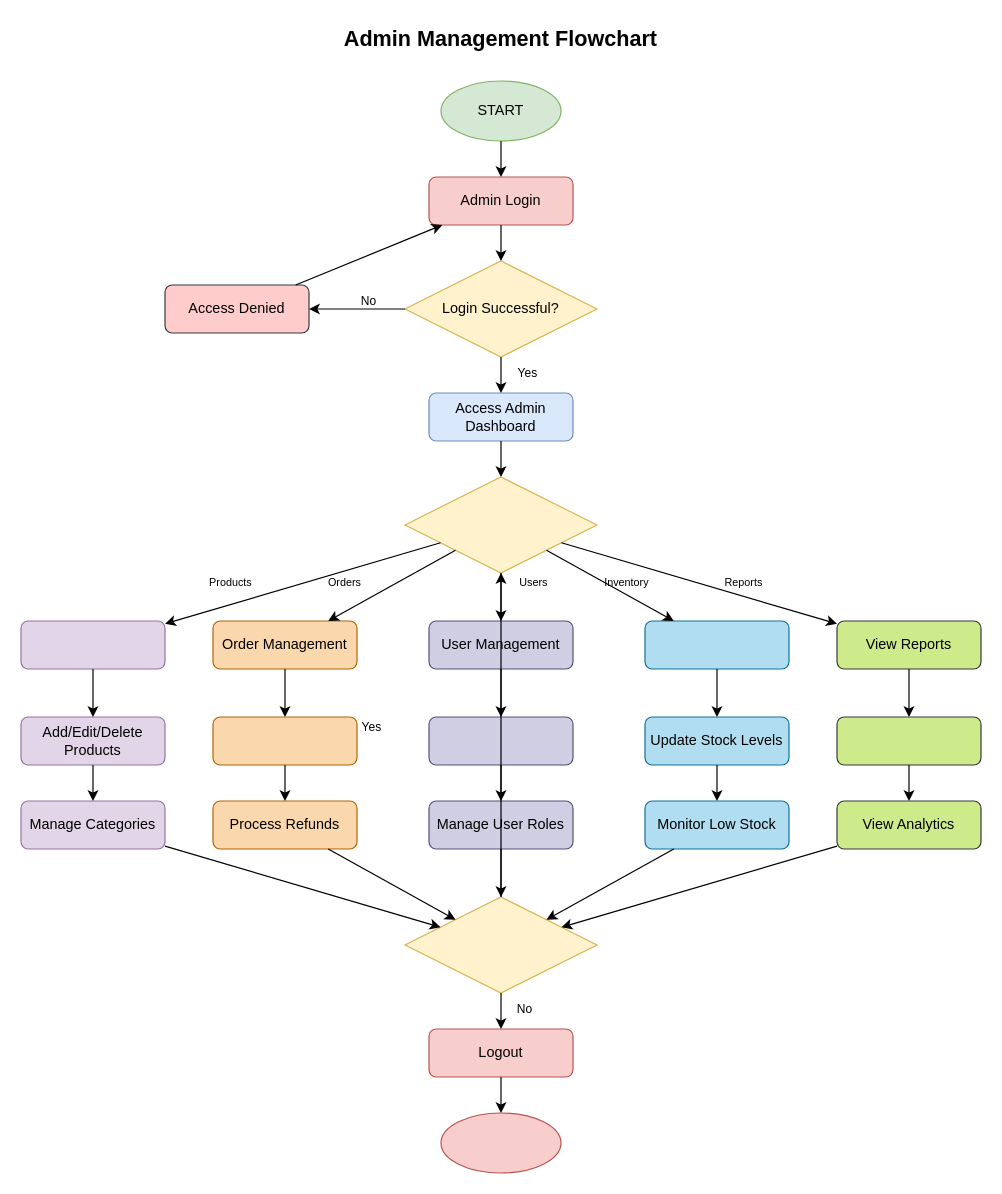
Some shapes in this 1002 by 1194 pixel diagram are drawn without their labels. Here are the shapes that lost their labels. From the top down, the box of each, then its label:
(404, 476, 597, 573): Select Management Task
(20, 620, 165, 669): Product Management
(644, 620, 789, 669): Inventory Management
(212, 716, 357, 765): Update Order Status
(428, 716, 573, 765): Add/Edit/Delete Users
(836, 716, 981, 765): Generate Sales Reports
(404, 896, 597, 993): Continue Managing?
(440, 1112, 561, 1173): END
